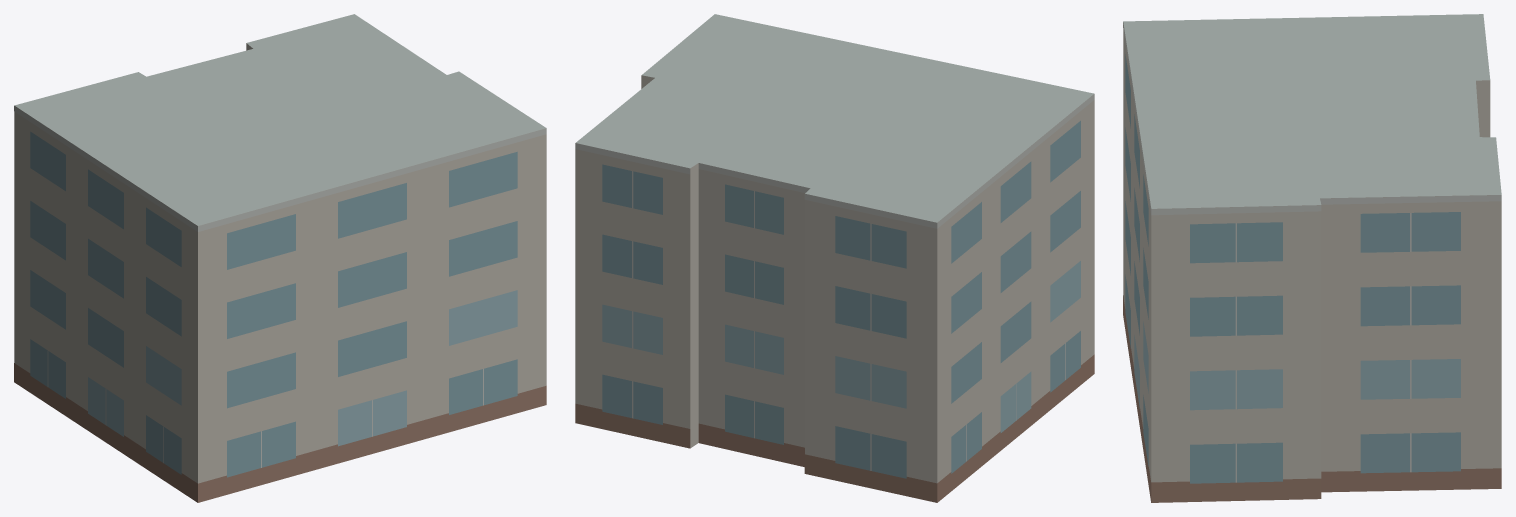
Rendered from survey-upis-32505920.glb.
3 views of the same model, side by side, from view 1: azimuth 30°, elevation 25°; view 2: azimuth 150°, elevation 25°; view 3: azimuth 270°, elevation 25° (orthographic). The views are drawn at different scales.
Parts seen in each view (by area): view 1: survey-upis-32505920.tmp; view 2: survey-upis-32505920.tmp; view 3: survey-upis-32505920.tmp.
Boxes of the visible parts, <box> form: survey-upis-32505920.tmp: <box>14,14,546,502</box>; survey-upis-32505920.tmp: <box>575,14,1094,502</box>; survey-upis-32505920.tmp: <box>1123,14,1501,502</box>.
Bounding box in the file's own units: 15.94 × 11.2 × 13.08.
